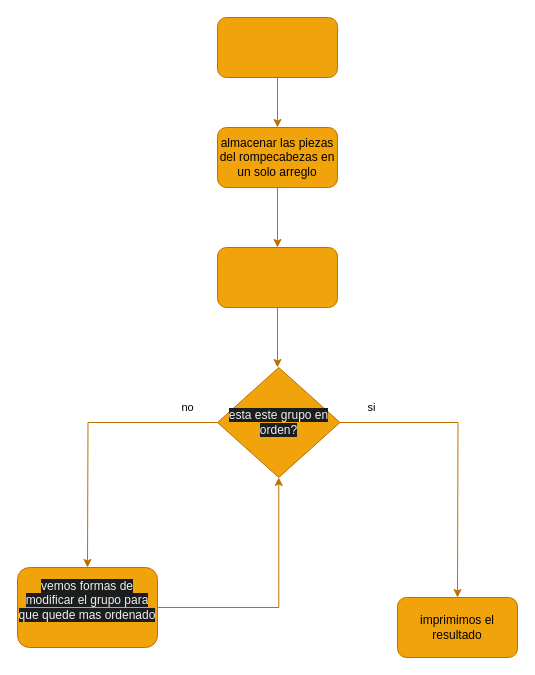
Some shapes in this 535 by 675 pixel diagram are drawn without their labels. The centre of each missing label's shape, as x and y in pixels:
"fijandonos en el largo de las piezas" goes at point (277, 277).
"recibir la cantidad de piezas que tendra la piramide" goes at point (277, 47).
